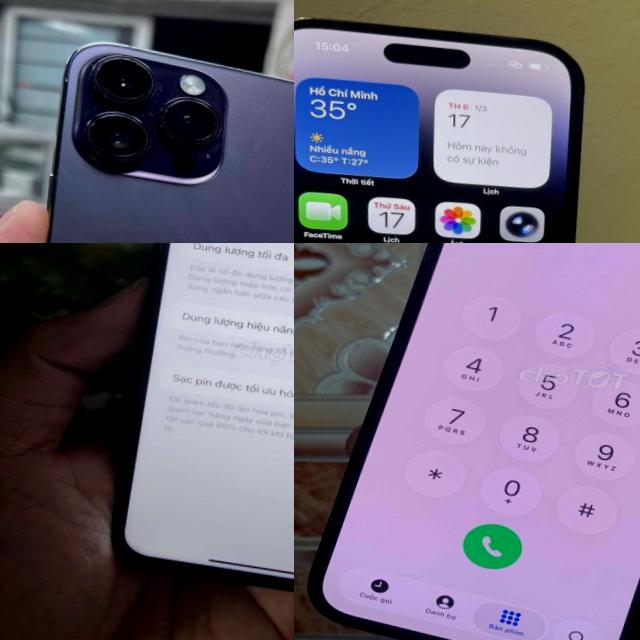scratch: (94, 66, 185, 148), (258, 236, 273, 243)
